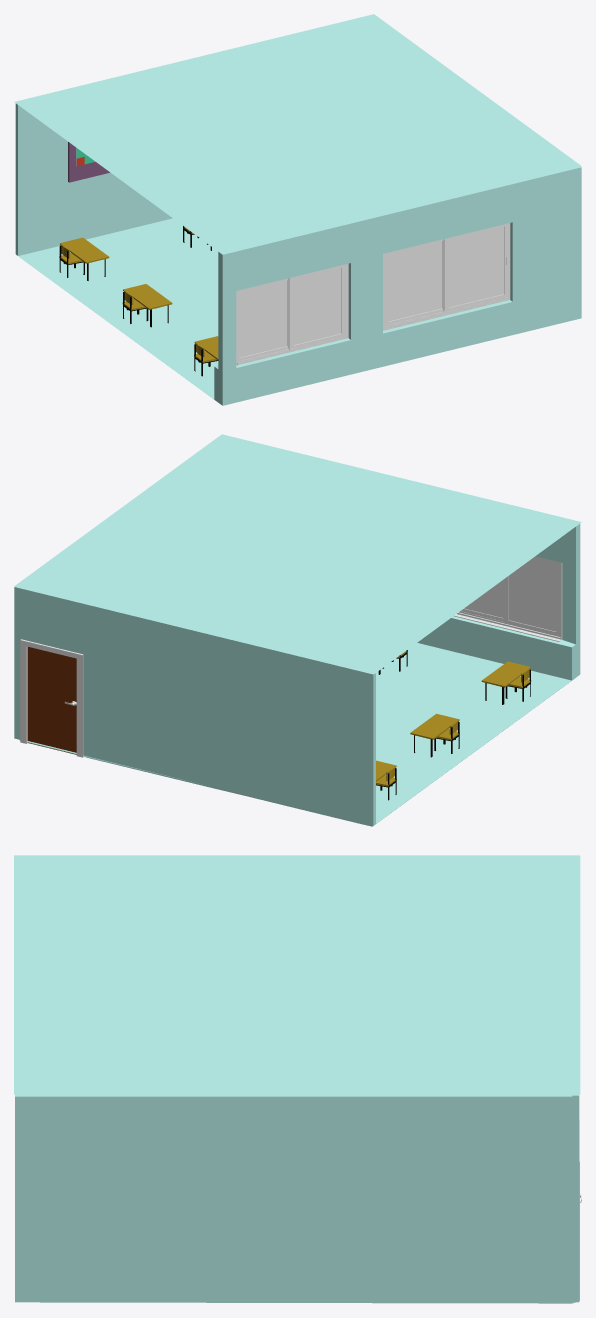
The model's file is Classroom.glb.
3 renders of one model, top to bottom at view 1: azimuth 30°, elevation 25°; view 2: azimuth 150°, elevation 25°; view 3: azimuth 270°, elevation 25°, orthographic. The views are drawn at different scales.
Parts seen in each view (by area): view 1: Plane.002, Plane.001, Window.R.001, Window.L.001, Window.R, Window.L, Cube.001, WindowFrame.001, Cube.006, WindowFrame; view 2: Plane.002, Plane.001, Door, Window.L, Cube.001, DoorFrame, Window.R, WindowFrame; view 3: Plane.002, Plane.001.
Part boxes in pixels (x1,y1,x2,y2): Plane.002: [14, 14, 581, 253]; Plane.001: [15, 103, 581, 405]; Window.R.001: [443, 223, 507, 312]; Window.L.001: [386, 239, 443, 325]; Window.R: [288, 264, 344, 350]; Window.L: [237, 278, 288, 361]; Cube.001: [59, 226, 218, 376]; WindowFrame.001: [383, 223, 510, 330]; Cube.006: [68, 142, 109, 182]; WindowFrame: [236, 263, 348, 365]; Plane.002: [14, 434, 581, 673]; Plane.001: [14, 523, 580, 826]; Door: [27, 647, 76, 754]; Window.L: [503, 557, 559, 636]; Cube.001: [376, 650, 531, 800]; DoorFrame: [20, 639, 83, 757]; Window.R: [460, 580, 503, 621]; WindowFrame: [457, 556, 562, 639]; Plane.002: [14, 855, 580, 1094]; Plane.001: [15, 1094, 579, 1303].
Bounding box in the file's own units: 40.2 × 16.62 × 40.31.
